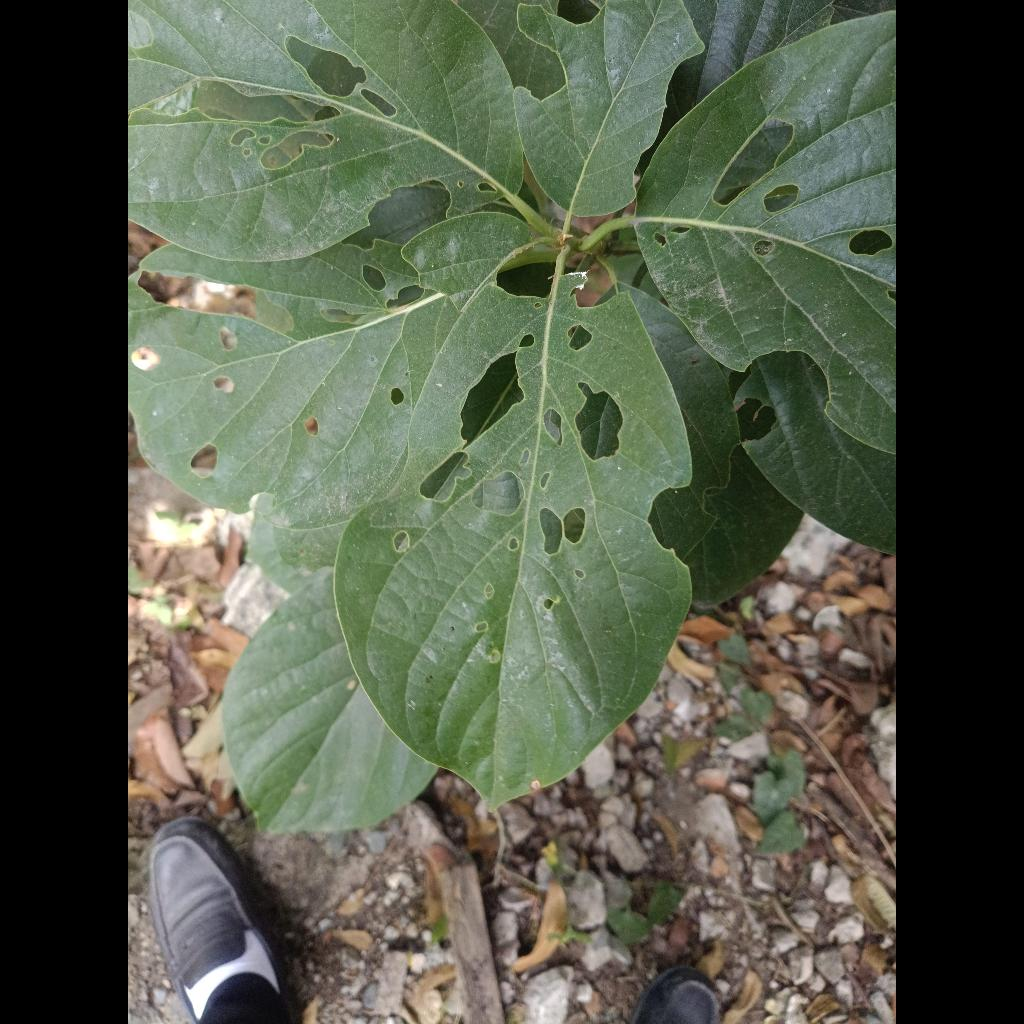plaga: (335, 252, 690, 807)
